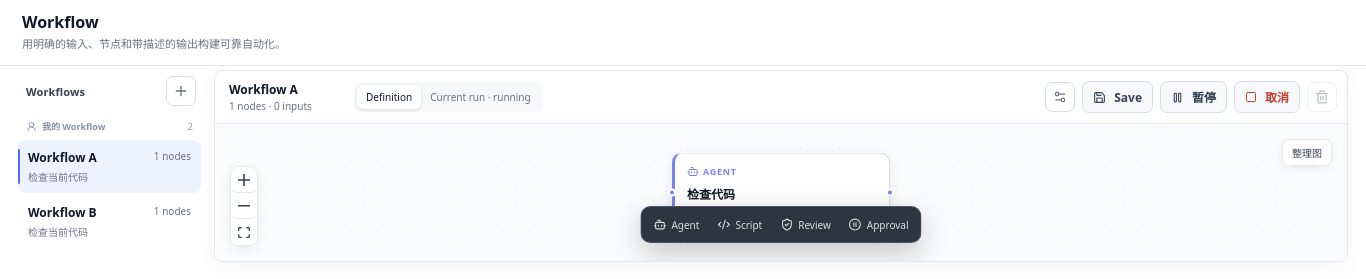
it: WorkflowFeaturePage live output › checks the right-clicked Workflow before enabling deletion
The image size is (1366, 279).
Right-click the button "Workflow B 1 nodes 检查当前代码".
right_click(110, 222)  # box 18,195 -> 201,248
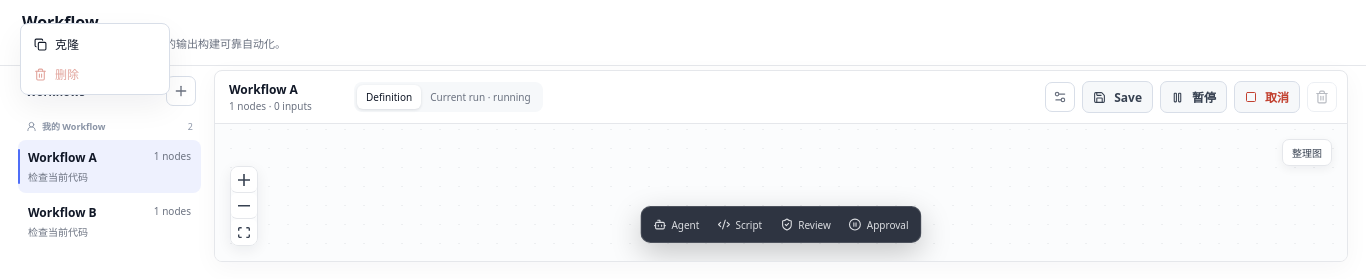
Check: the button "删除" is disabled, box 26,59 -> 164,89
